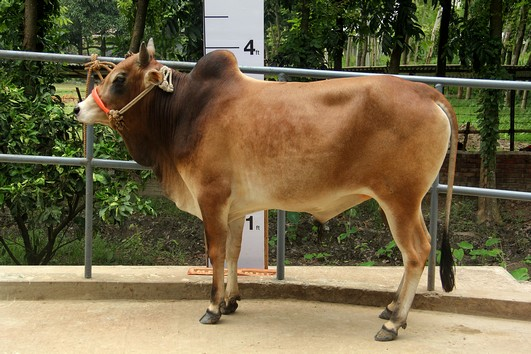cow: (68, 37, 461, 338)
